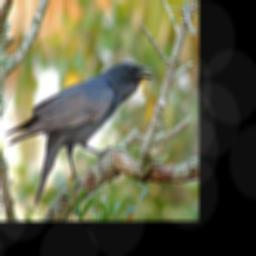Crow: (4, 62, 155, 208)
